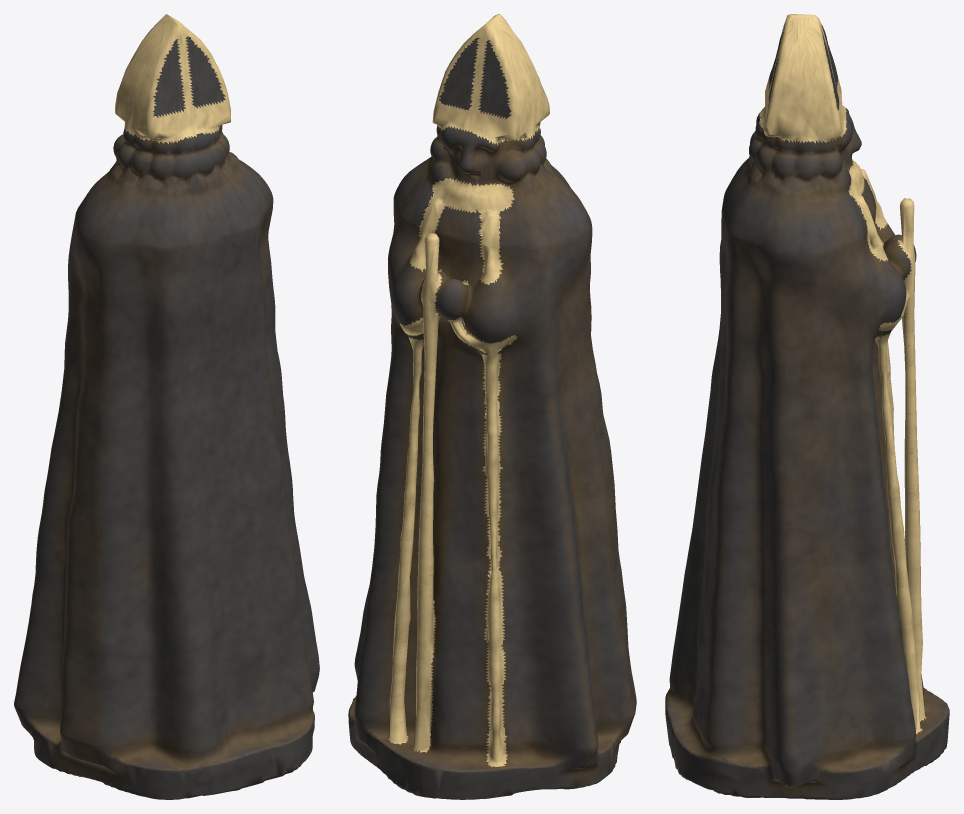
The model's file is bishop-black-hd.glb.
The picture shows the model from 3 angles, left to right: view 1: azimuth 30°, elevation 25°; view 2: azimuth 150°, elevation 25°; view 3: azimuth 270°, elevation 25°; orthographic projection.
Visible parts, largest first — view 1: Argent Reliquary – Black Bishop; view 2: Argent Reliquary – Black Bishop; view 3: Argent Reliquary – Black Bishop.
Boxes of the visible parts, <box> form: Argent Reliquary – Black Bishop: <box>14,14,319,799</box>; Argent Reliquary – Black Bishop: <box>348,14,636,799</box>; Argent Reliquary – Black Bishop: <box>665,14,949,799</box>.
Bounding box in the file's own units: 0.5366 × 1.39 × 0.4891.
Materials: 2 (2 with a texture image).
